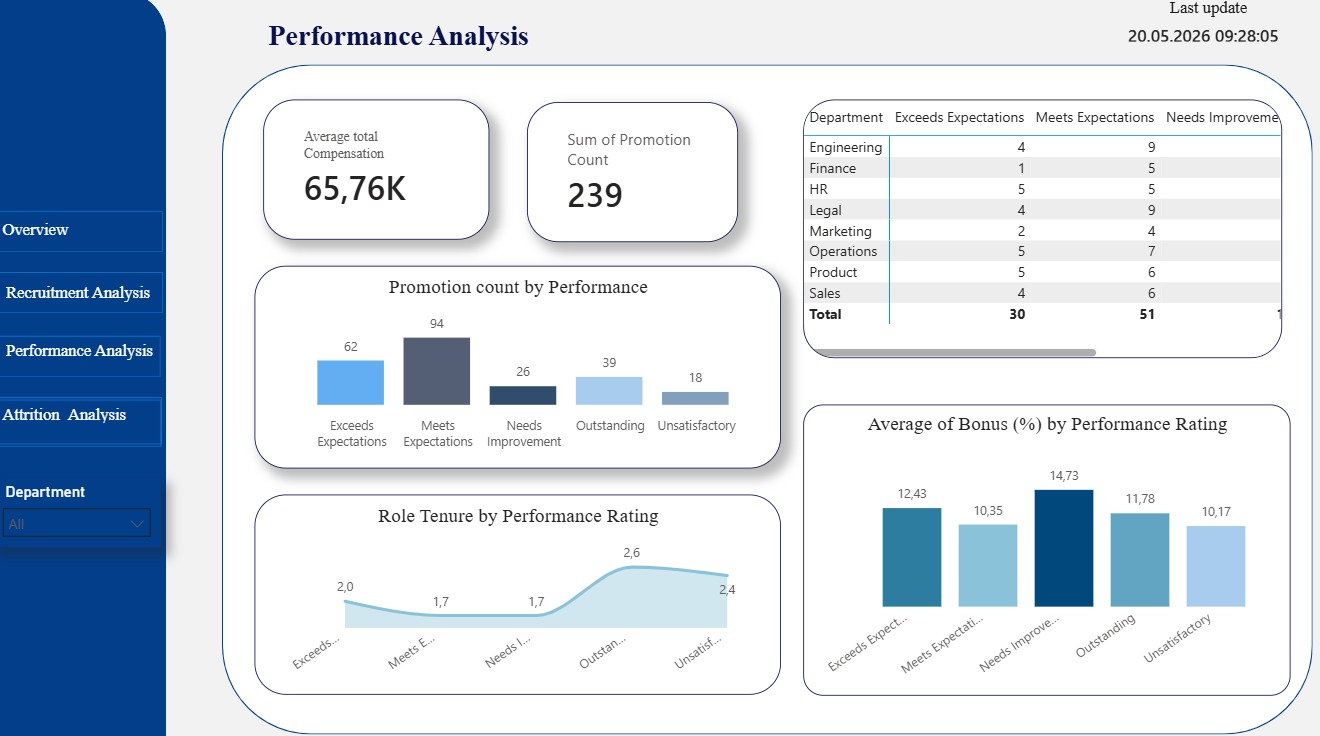

The dashboard page shown, as its layout file describes it:
{"tool":"powerbi","page":{"name":"Page 1","canvas":[1280,720],"ordinal":0},"visuals":[{"type":"shape","box":[220,69.4,1045.9,642.4],"z":0},{"type":"shape","box":[0,0,167.1,721.2],"z":1000},{"type":"textbox","box":[8.2,274.1,184.7,34.1],"z":30000},{"type":"textbox","box":[8.2,329.4,167.1,44.7],"z":31000},{"type":"textbox","box":[8.2,395.3,184.7,47.1],"z":32000},{"type":"textbox","box":[4.7,390.6,167.1,44.7],"z":33000},{"type":"shape","box":[2.4,209.7,161.8,39.6],"z":51000},{"type":"textbox","box":[4.3,213.5,145.7,39],"z":52000},{"type":"shape","box":[0,268.5,164.2,39.6],"z":53000},{"type":"shape","box":[0,329.6,161.8,39.6],"z":54000},{"type":"shape","box":[0,390.6,162.4,45.9],"z":56000},{"type":"shape","box":[0,388.3,163,45.5],"z":61000},{"type":"cardVisual","title":"Last update","fields":{"Rows":["Query1.Column1"]},"box":[1052.4,6.1,228,101.2],"z":62000},{"type":"shape","box":[252.9,92.3,200.1,131.8],"z":63000},{"type":"card","fields":{"Values":["Employee Data.Total Employees"]},"box":[267.3,101.9,185.8,122.2],"z":64000},{"type":"shape","box":[771.8,92.3,200.1,131.8],"z":65000},{"type":"shape","box":[496.2,92.3,200.1,131.8],"z":66000},{"type":"shape","box":[1027.1,92.3,200.1,131.8],"z":67000},{"type":"card","fields":{"Values":["Employee Data.Active Employees"]},"box":[510.6,101.9,185.8,122.2],"z":68000},{"type":"card","fields":{"Values":["Employee Data.Inactive Employees"]},"box":[786.2,101.9,185.8,122.2],"z":69000},{"type":"card","fields":{"Values":["Employee Data.Attrition Rate %"]},"box":[1041.5,101.9,185.8,122.2],"z":70000},{"type":"shape","box":[252.5,252.5,387.5,247.2],"z":71000},{"type":"clusteredBarChart","title":"Attrition rate by Department","fields":{"Category":["Employee Data.Department"],"Y":["Employee Data.Attrition Rate %"]},"box":[259.2,256.5,372.8,236.5],"z":72000},{"type":"shape","box":[658.7,252.5,314,247.2],"z":73000},{"type":"shape","box":[244.5,507.7,528,188.4],"z":74000},{"type":"lineChart","title":"Attrition Rate by Tenure Group","fields":{"Category":["Employee Data.Tenure Group"],"Y":["Employee Data.Attrition Rate %"]},"box":[666.7,257.9,299.3,235.2],"z":75000},{"type":"shape","box":[987.4,251.2,265.9,248.5],"z":76000},{"type":"pivotTable","fields":{"Rows":["Employee Data.Recruitment Source"],"Values":["Employee Data.Attrition Rate %"]},"box":[992.7,255.2,256.5,241.8],"z":77000},{"type":"columnChart","title":"Attrition Rate by Performance Rating (Current Year)","fields":{"Category":["Employee Data.Performance Rating (Current Year)"],"Y":["Employee Data.Attrition Rate %"]},"box":[252.5,514.4,509.1,176.4],"z":78000},{"type":"textbox","box":[220.5,6.7,503.7,62.8],"z":79000},{"type":"shape","box":[793.7,507.7,436.9,188.4],"z":80000},{"type":"textbox","box":[807,514.4,410.2,183],"z":81000},{"type":"slicer","fields":{"Values":["Employee Data.Department"]},"box":[0,466.3,161.7,65.5],"z":82000}]}

Visuals, with their boxes on the page's 1280x720 design canvas (x1, y1, x2, y2). These are canvas units, not pixel positions in the 1320x736 screenshot, which may show the page scaled, cropped or inside an application window:
shape: region(220, 69, 1266, 712)
shape: region(0, 0, 167, 721)
textbox: region(8, 274, 193, 308)
textbox: region(8, 329, 175, 374)
textbox: region(8, 395, 193, 442)
textbox: region(5, 391, 172, 435)
shape: region(2, 210, 164, 249)
textbox: region(4, 214, 150, 252)
shape: region(0, 268, 164, 308)
shape: region(0, 330, 162, 369)
shape: region(0, 391, 162, 436)
shape: region(0, 388, 163, 434)
"Last update" cardVisual: region(1052, 6, 1280, 107)
shape: region(253, 92, 453, 224)
card - Employee Data.Total Employees: region(267, 102, 453, 224)
shape: region(772, 92, 972, 224)
shape: region(496, 92, 696, 224)
shape: region(1027, 92, 1227, 224)
card - Employee Data.Active Employees: region(511, 102, 696, 224)
card - Employee Data.Inactive Employees: region(786, 102, 972, 224)
card - Employee Data.Attrition Rate %: region(1042, 102, 1227, 224)
shape: region(252, 252, 640, 500)
"Attrition rate by Department" clusteredBarChart: region(259, 256, 632, 493)
shape: region(659, 252, 973, 500)
shape: region(244, 508, 772, 696)
"Attrition Rate by Tenure Group" lineChart: region(667, 258, 966, 493)
shape: region(987, 251, 1253, 500)
pivotTable - Employee Data.Recruitment Source x Employee Data.Attrition Rate %: region(993, 255, 1249, 497)
"Attrition Rate by Performance Rating (Current Year)" columnChart: region(252, 514, 762, 691)
textbox: region(220, 7, 724, 70)
shape: region(794, 508, 1231, 696)
textbox: region(807, 514, 1217, 697)
slicer - Employee Data.Department: region(0, 466, 162, 532)
